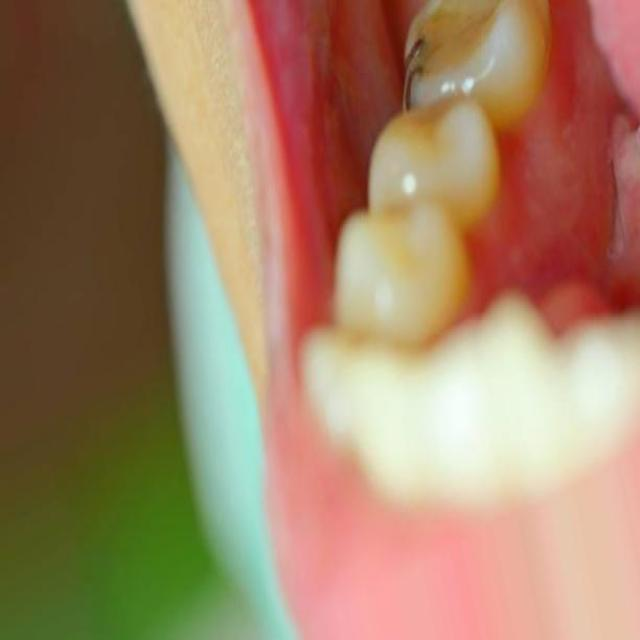caries: (386, 0, 506, 106)
